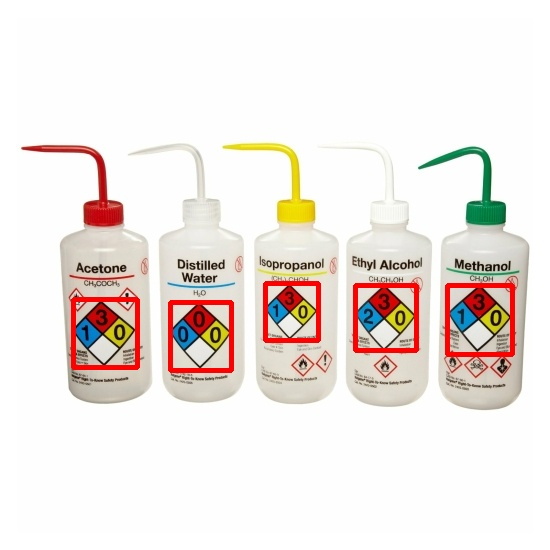nfpa: (447, 285, 512, 354), (73, 299, 137, 367), (170, 302, 231, 370), (355, 285, 416, 350), (265, 283, 318, 340)
